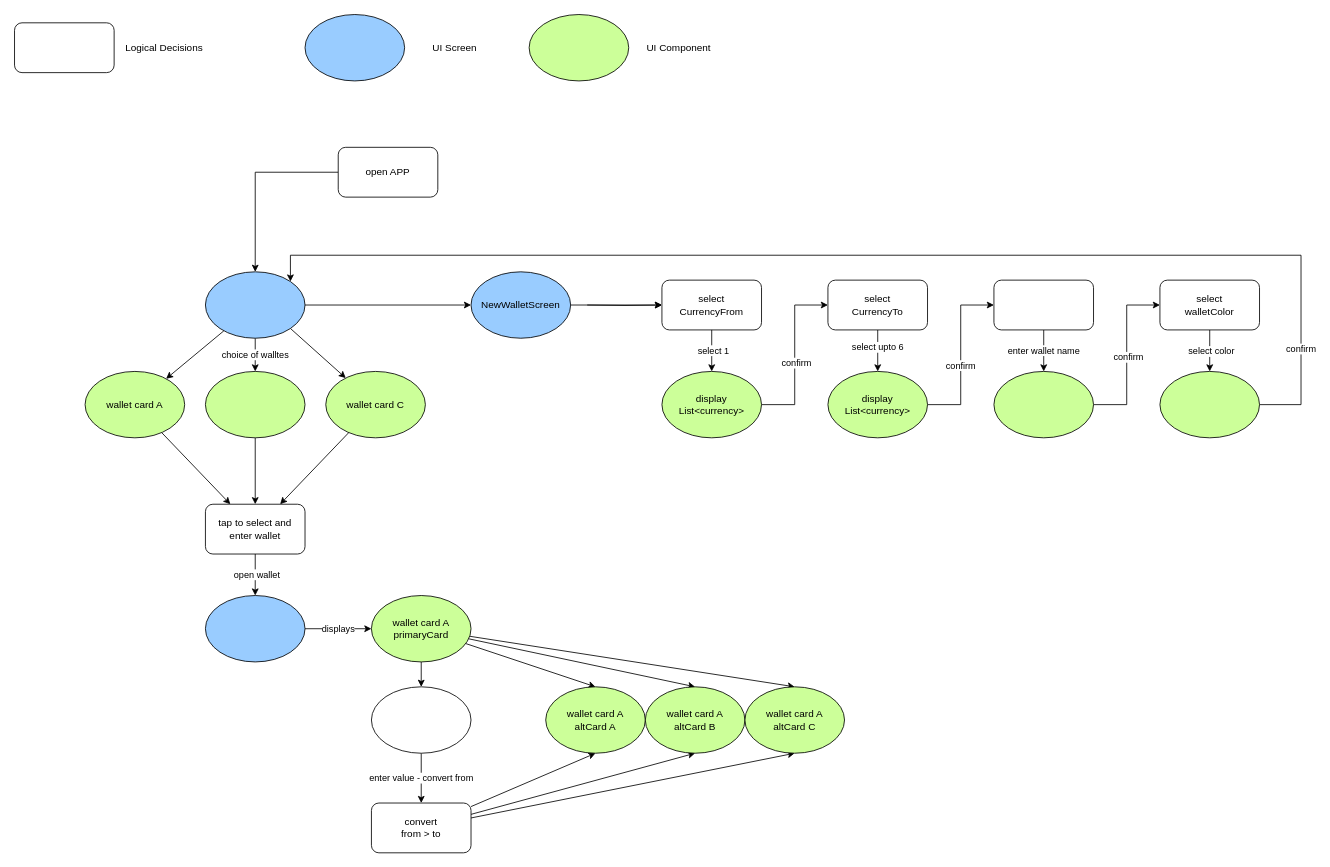
This 1330x867 diagram has some shape labels left out. Here are the shapes that lost their labels. From the top down, the box of each, then its label:
(205, 271, 305, 338): HomeScreen displayList all Wallets
(993, 279, 1094, 330): input walletName
(205, 371, 305, 438): wallet card B
(993, 371, 1094, 438): display text entry field
(1159, 371, 1260, 438): display color options
(205, 595, 305, 662): WalletScreen wallet card A
(371, 686, 471, 753): display numeric keypad
